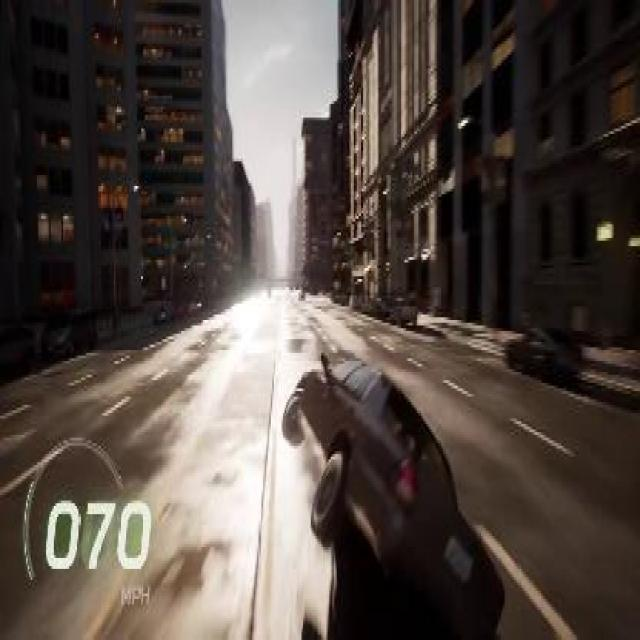accident: (276, 331, 524, 637)
